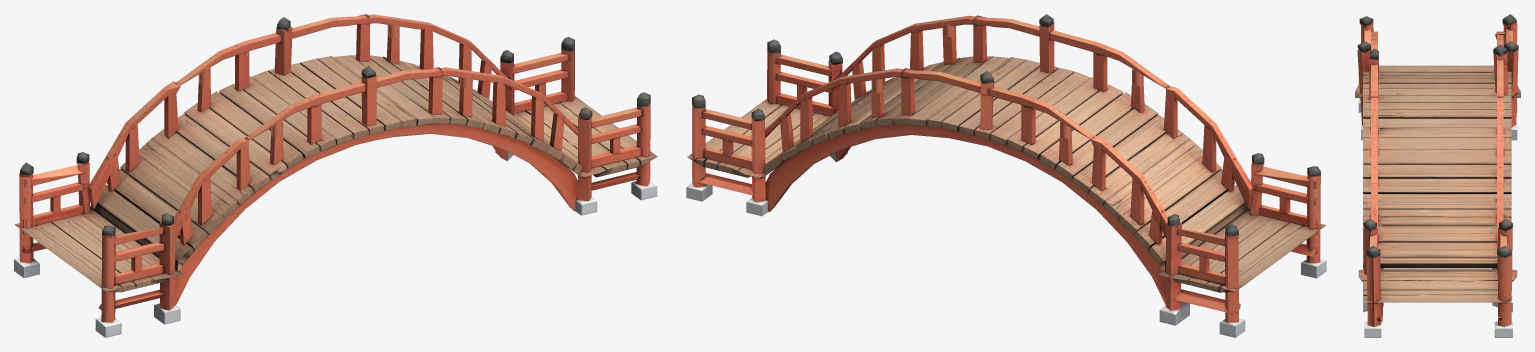
File: puente.obj
3 views of the same model, side by side, from view 1: azimuth 30°, elevation 25°; view 2: azimuth 150°, elevation 25°; view 3: azimuth 270°, elevation 25° (orthographic). The views are drawn at different scales.
Visible parts, largest first — view 1: model; view 2: model; view 3: model.
Part boxes in pixels (left/top/right/bottom): model: left=14, top=14, right=657, bottom=337; model: left=686, top=14, right=1326, bottom=337; model: left=1355, top=14, right=1520, bottom=337.
Size of the model in its own units: 1.9 by 0.6596 by 0.5659.
1 material, 1 textured.
